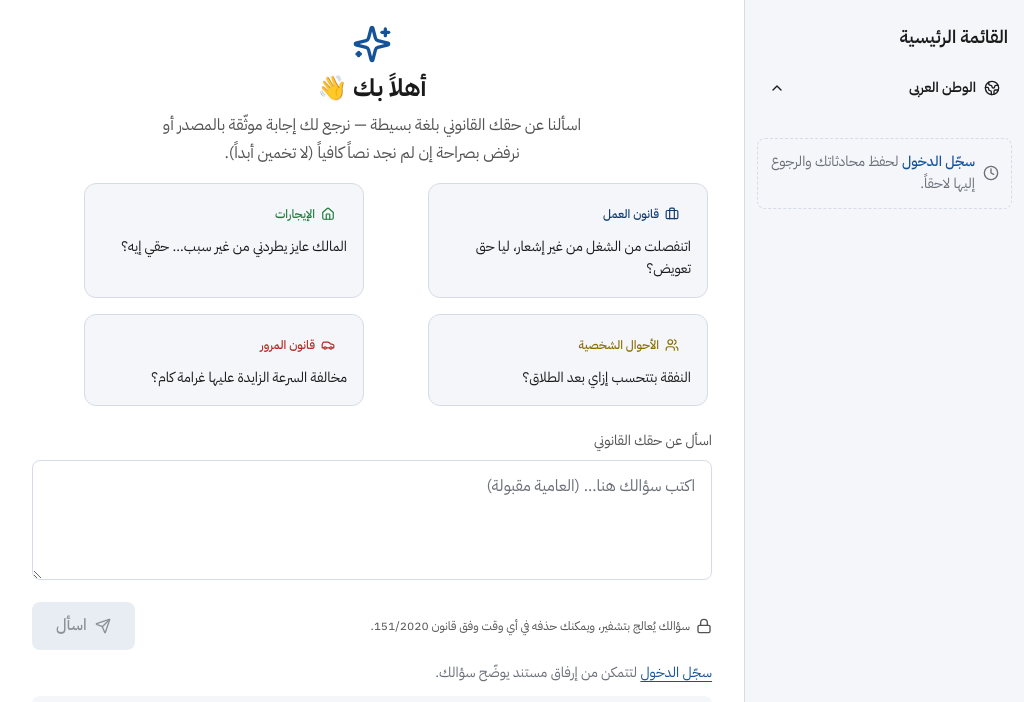
Test: ChatScreen › يعرض رسالة خطأ قابلة للتعافي عند فشل الاتصال بالخادم
Type "سؤال عن الإيجار القديم" into the text box labelled "اسأل عن حقك القانوني" at {"x": 372, "y": 520}, box [32,460,712,580]
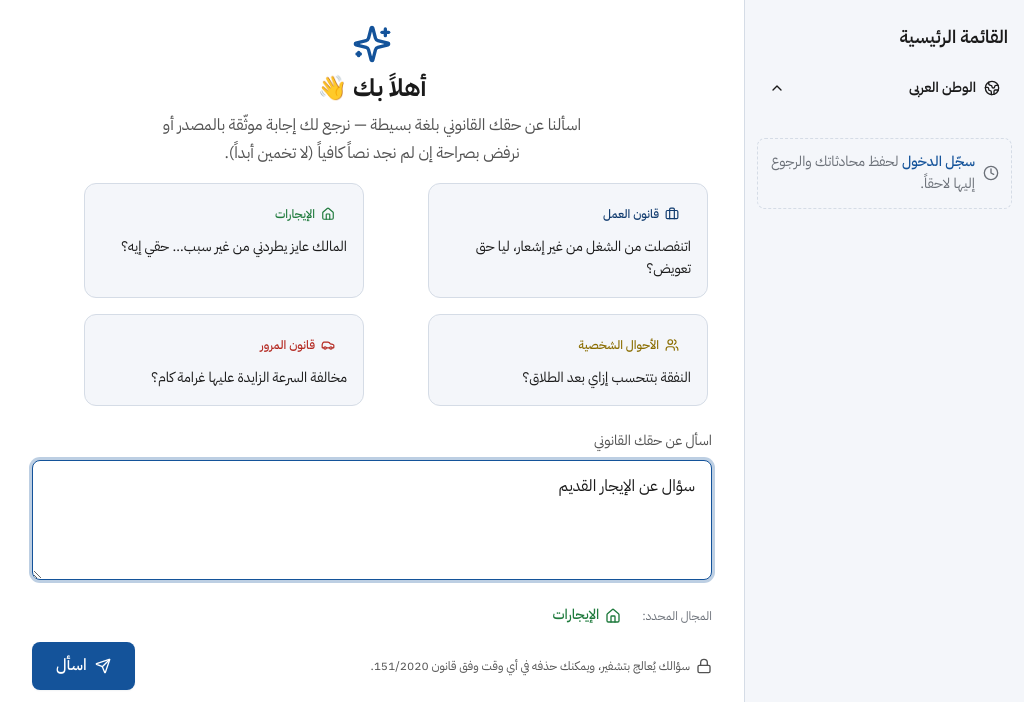
Click the button with aria-label "إرسال السؤال" at {"x": 83, "y": 666}, box [32,642,135,690]
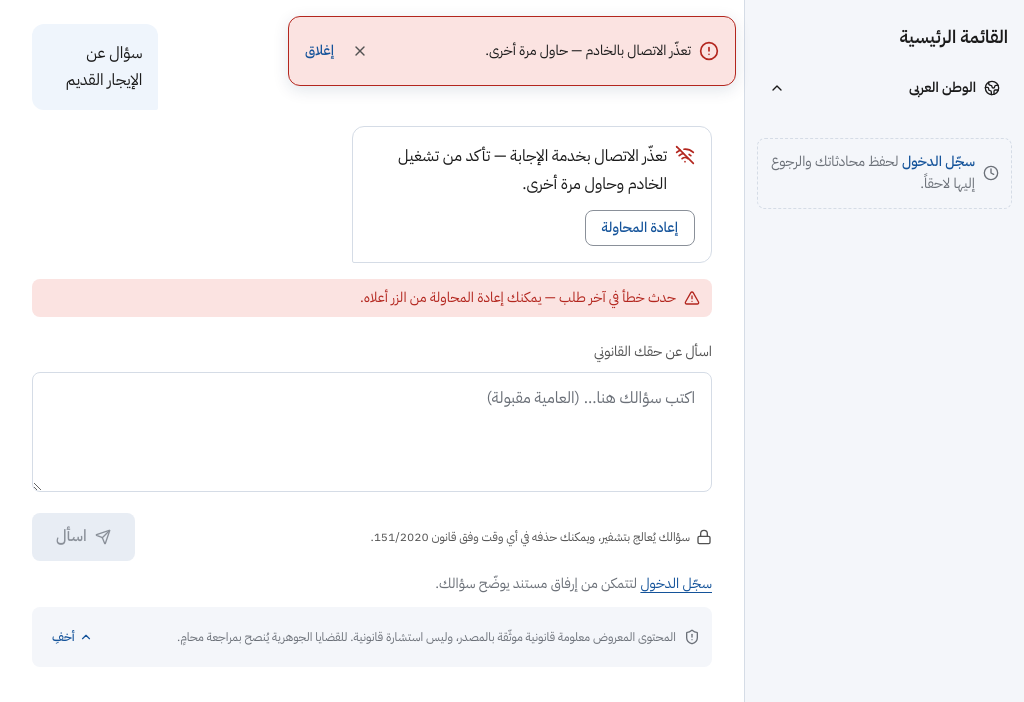
Expected: the button "إعادة المحاولة" is shown, [584,210,695,246]
Expected: the 2nd message is shown, [369,143,695,246]
Expected: the text "تعذّر الاتصال بخدمة الإجابة" is shown, [398,144,667,196]
